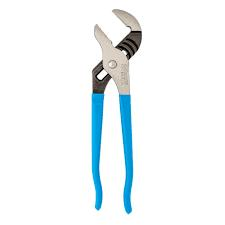pliers: (88, 6, 143, 213)
